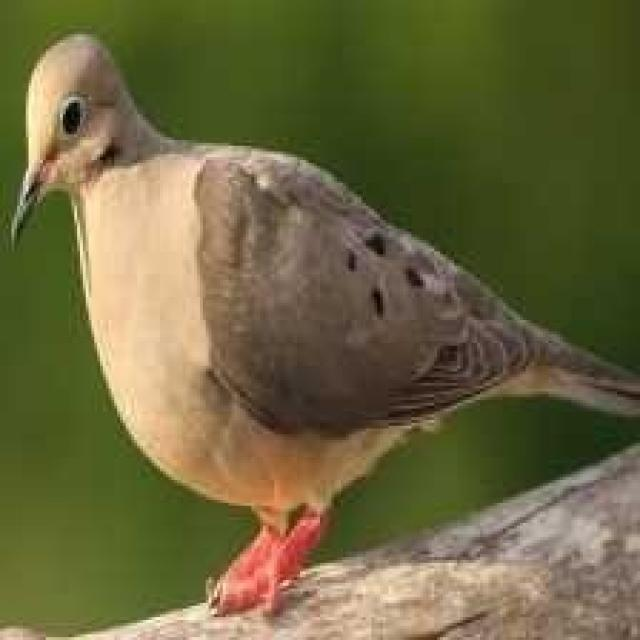bird: (7, 21, 640, 612)
